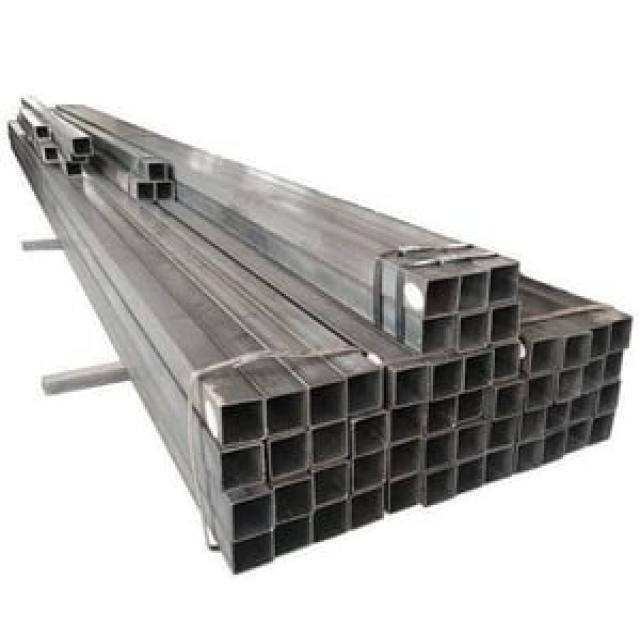pipe: (219, 443, 264, 493), (233, 491, 272, 542), (221, 400, 264, 445), (267, 388, 306, 437), (271, 430, 308, 481), (232, 529, 273, 575), (275, 477, 311, 525), (309, 379, 345, 427), (347, 368, 381, 416), (312, 499, 348, 544), (314, 461, 347, 509), (389, 403, 427, 444), (313, 420, 346, 467), (275, 515, 310, 559), (394, 364, 429, 408), (352, 411, 386, 456), (353, 448, 385, 493), (430, 357, 463, 400), (351, 486, 382, 530), (423, 315, 456, 355), (391, 439, 423, 479), (426, 465, 455, 506), (391, 474, 420, 514), (530, 337, 561, 374), (459, 272, 488, 311), (427, 396, 456, 434), (492, 304, 520, 343), (426, 431, 454, 469), (486, 417, 516, 452), (465, 351, 491, 391), (490, 270, 520, 304), (459, 316, 489, 349), (494, 380, 520, 418), (485, 448, 512, 483), (456, 424, 482, 460), (495, 342, 518, 381), (428, 280, 456, 312), (459, 457, 483, 494), (458, 390, 483, 425), (569, 390, 596, 422), (528, 373, 551, 410), (591, 323, 612, 363), (516, 439, 541, 472), (563, 334, 588, 367), (596, 380, 619, 415), (558, 369, 582, 400), (590, 411, 614, 441), (545, 430, 566, 464), (583, 359, 605, 391), (612, 318, 632, 351), (522, 410, 543, 441), (545, 402, 566, 432), (568, 420, 588, 451), (604, 351, 622, 382), (146, 162, 165, 181), (73, 139, 93, 156), (137, 181, 155, 198), (156, 182, 174, 199), (65, 163, 83, 177), (43, 147, 59, 161), (35, 126, 50, 139)
